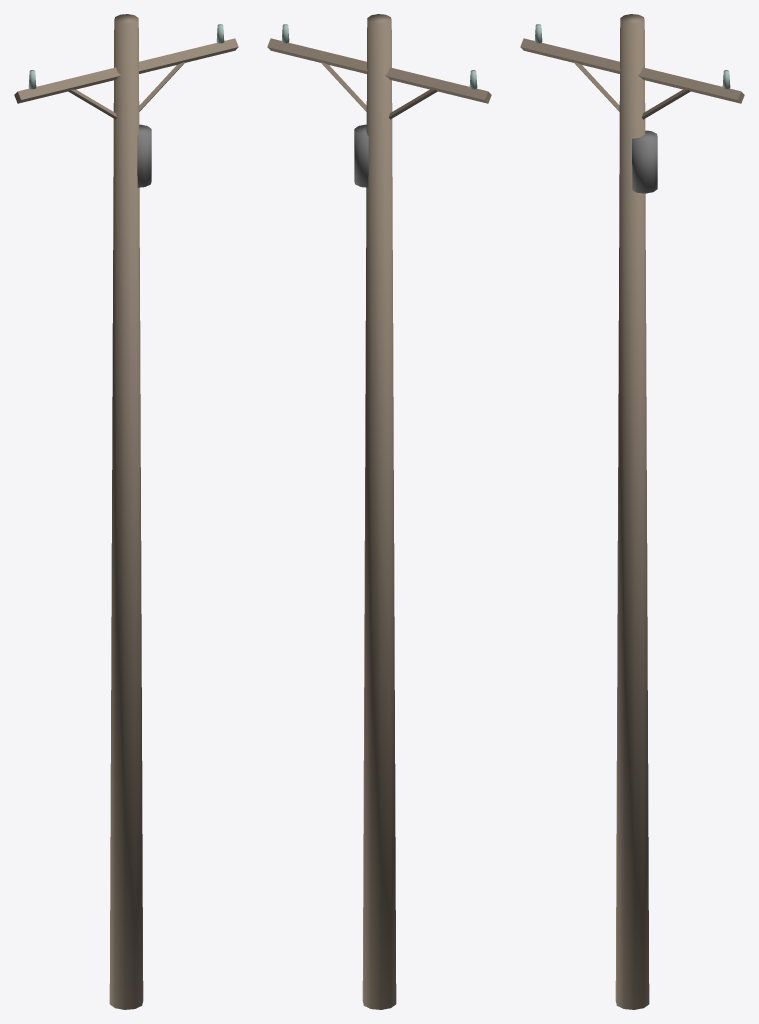
The model's file is Poste_Luz.fbx.
3 views of the same model, side by side, from view 1: azimuth 30°, elevation 25°; view 2: azimuth 150°, elevation 25°; view 3: azimuth 330°, elevation 25° (orthographic).
Visible parts, largest first — view 1: Poste_Luz; view 2: Poste_Luz; view 3: Poste_Luz.
Boxes of the visible parts, x1=… form: Poste_Luz: x1=14, y1=14, x2=238, y2=1009; Poste_Luz: x1=267, y1=14, x2=491, y2=1009; Poste_Luz: x1=520, y1=14, x2=744, y2=1009.
Bounding box in the file's own units: 2.2 × 9.5 × 0.3.
